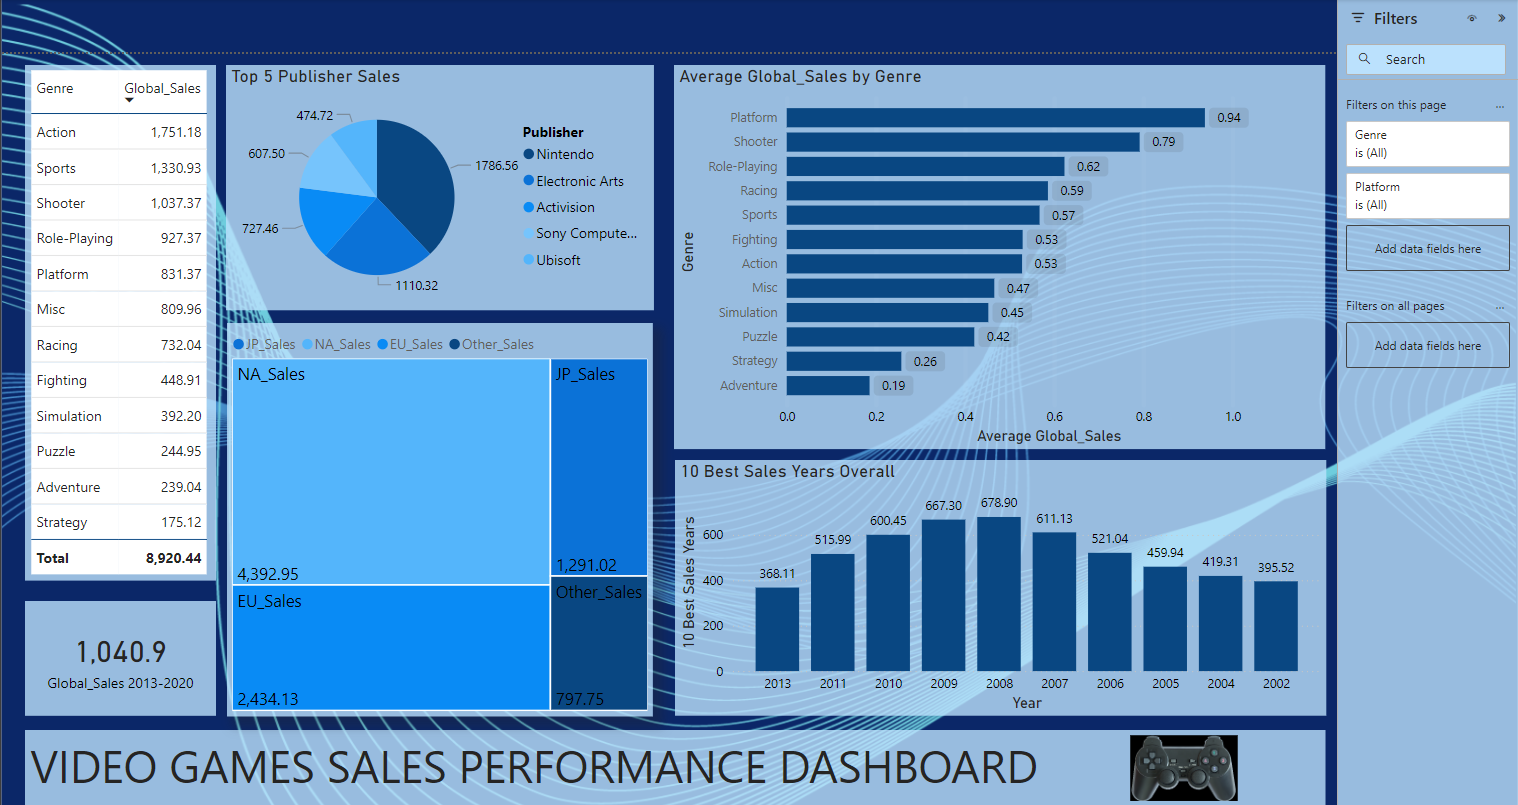

The dashboard page shown, as its layout file describes it:
{"tool":"powerbi","page":{"name":"Page 1","canvas":[1280,720],"ordinal":0},"visuals":[{"type":"tableEx","fields":{"Values":["Video Game sales.Genre","Sum(Video Game sales.Global_Sales)"]},"box":[23,11,182.9,494.1],"z":0},{"type":"card","fields":{"Values":["Sum(Video Game sales.Global_Sales)"]},"box":[23,524.1,183,110.2],"z":1000},{"type":"textbox","box":[23,648,1246,72],"z":2000},{"type":"image","box":[1054,648,158,72.8],"z":3000},{"type":"treemap","fields":{"Values":["Sum(Video Game sales.JP_Sales)","Sum(Video Game sales.NA_Sales)","Sum(Video Game sales.EU_Sales)","Sum(Video Game sales.Other_Sales)"]},"box":[216.5,257.7,408.1,376.5],"z":4000},{"type":"pieChart","title":"Top 5 Publisher Sales","fields":{"Category":["Video Game sales.Publisher"],"Y":["Sum(Video Game sales.Global_Sales)"]},"box":[215.6,10.5,410.1,234.7],"z":5000},{"type":"barChart","fields":{"Category":["Video Game sales.Genre"],"Y":["Avg(Video Game sales.Global_Sales)"]},"box":[645,11,624,368],"z":6000},{"type":"columnChart","title":"10 Best Sales Years Overall","fields":{"Category":["Video Game sales.Year"],"Y":["Sum(Video Game sales.Global_Sales)"]},"box":[645.7,389,623.7,245.3],"z":7001}]}

Visuals, with their boxes on the page's 1280x720 design canvas (x1, y1, x2, y2). These are canvas units, not pixel positions in the 1518x805 screenshot, which may show the page scaled, cropped or inside an application window:
tableEx - Video Game sales.Genre x Sum(Video Game sales.Global_Sales): 23, 11, 206, 505
card - Sum(Video Game sales.Global_Sales): 23, 524, 206, 634
textbox: 23, 648, 1269, 720
image: 1054, 648, 1212, 721
treemap - Sum(Video Game sales.JP_Sales) x Sum(Video Game sales.NA_Sales): 216, 258, 625, 634
"Top 5 Publisher Sales" pieChart: 216, 10, 626, 245
barChart - Video Game sales.Genre x Avg(Video Game sales.Global_Sales): 645, 11, 1269, 379
"10 Best Sales Years Overall" columnChart: 646, 389, 1269, 634
